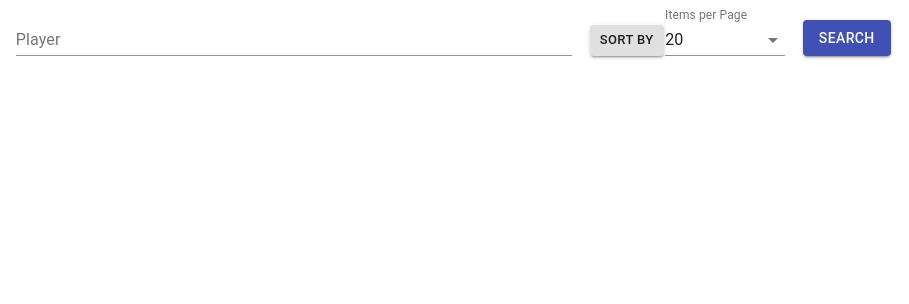
Test: Clicks the search
Click the button with test id "searchBtn": {"x": 847, "y": 38} [803,20,891,56]
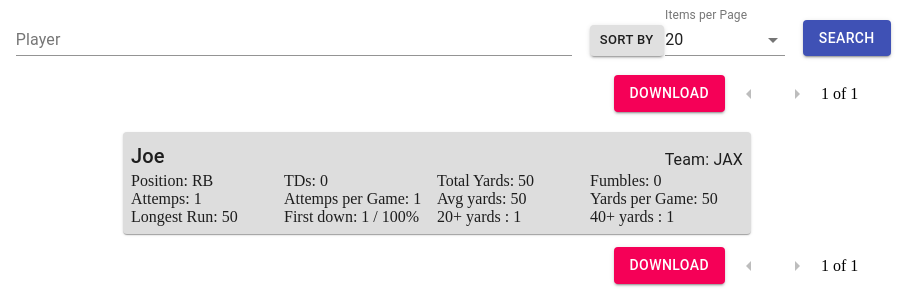
expect the heading "Joe" is shown: met, box [131,140,165,172]
